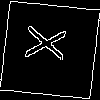X: (25, 25, 76, 62)
